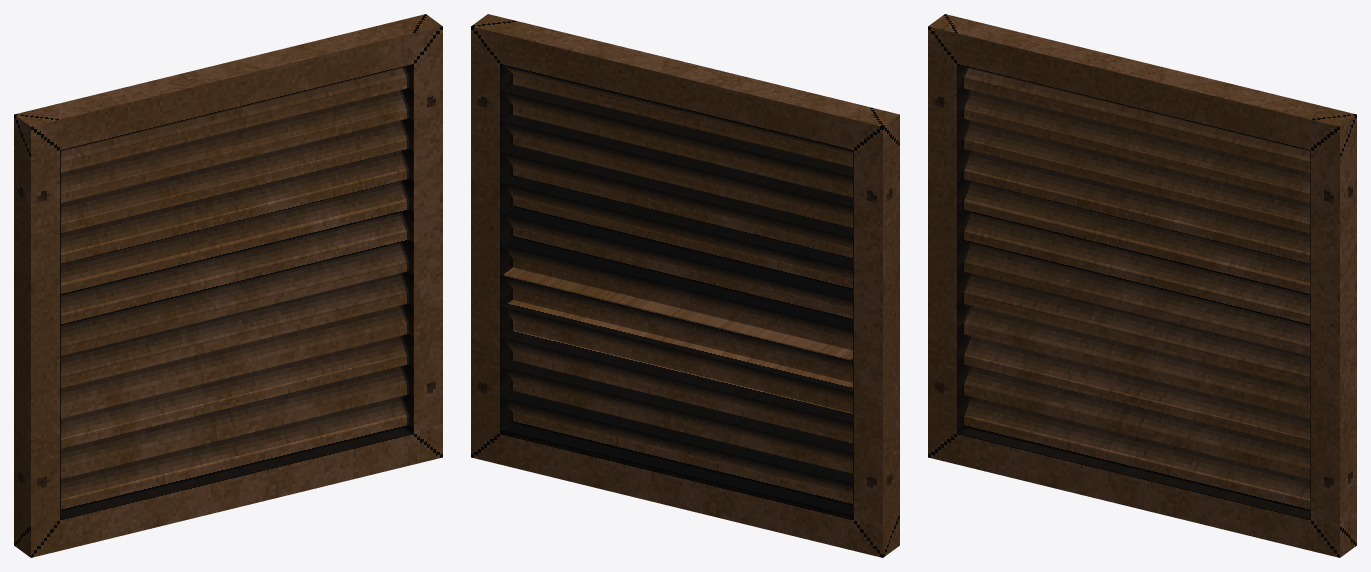
Rendered from vent.glb.
3 views of the same model, side by side, from view 1: azimuth 30°, elevation 25°; view 2: azimuth 150°, elevation 25°; view 3: azimuth 330°, elevation 25° (orthographic).
Visible parts, largest first — view 1: Object_13; view 2: Object_13; view 3: Object_13.
Part boxes in pixels (box(x1,y1,x2,y2)): Object_13: box(14, 14, 442, 557); Object_13: box(471, 14, 899, 557); Object_13: box(928, 14, 1356, 557).
Size of the model in its own units: 1 by 1 by 0.0712.
Materials: 1 (1 with a texture image).
